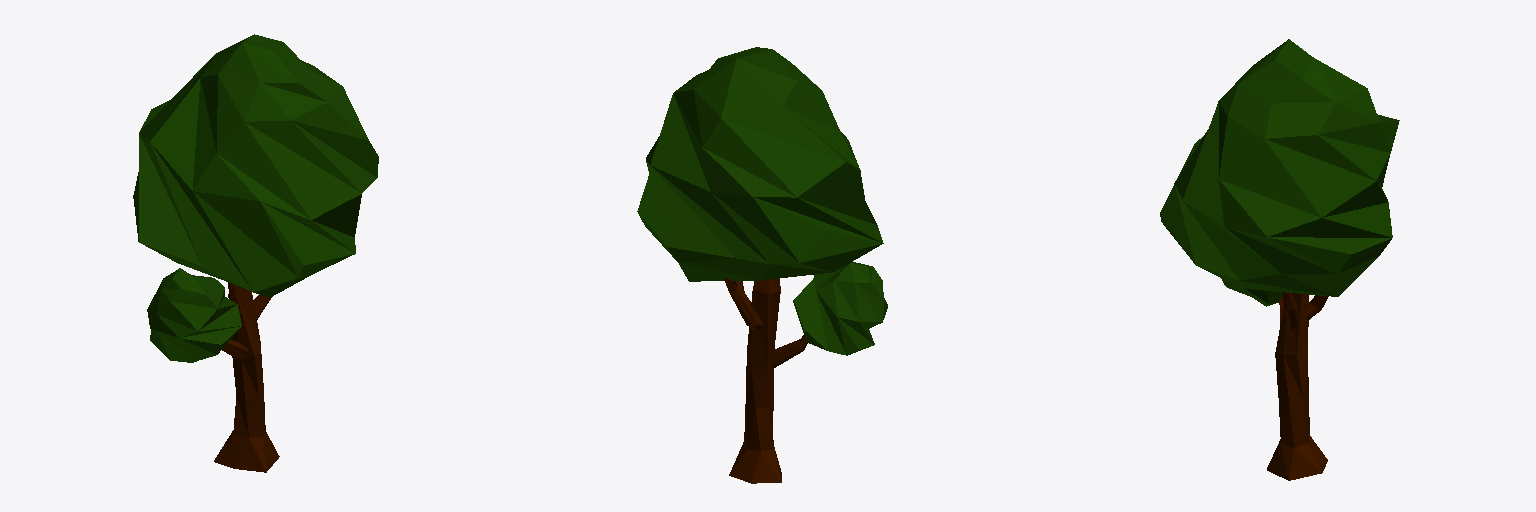
File: Tree24.obj
3 renders of one model, left to right at view 1: azimuth 30°, elevation 25°; view 2: azimuth 150°, elevation 25°; view 3: azimuth 270°, elevation 25°, orthographic.
Visible parts, largest first — view 1: Tree_Type_2_4; view 2: Tree_Type_2_4; view 3: Tree_Type_2_4.
Part boxes in pixels (bbox=[...]): Tree_Type_2_4: bbox=[133, 34, 378, 472]; Tree_Type_2_4: bbox=[637, 47, 887, 483]; Tree_Type_2_4: bbox=[1160, 39, 1399, 480].
Bounding box in the file's own units: 0.2838 × 0.4946 × 0.2527.